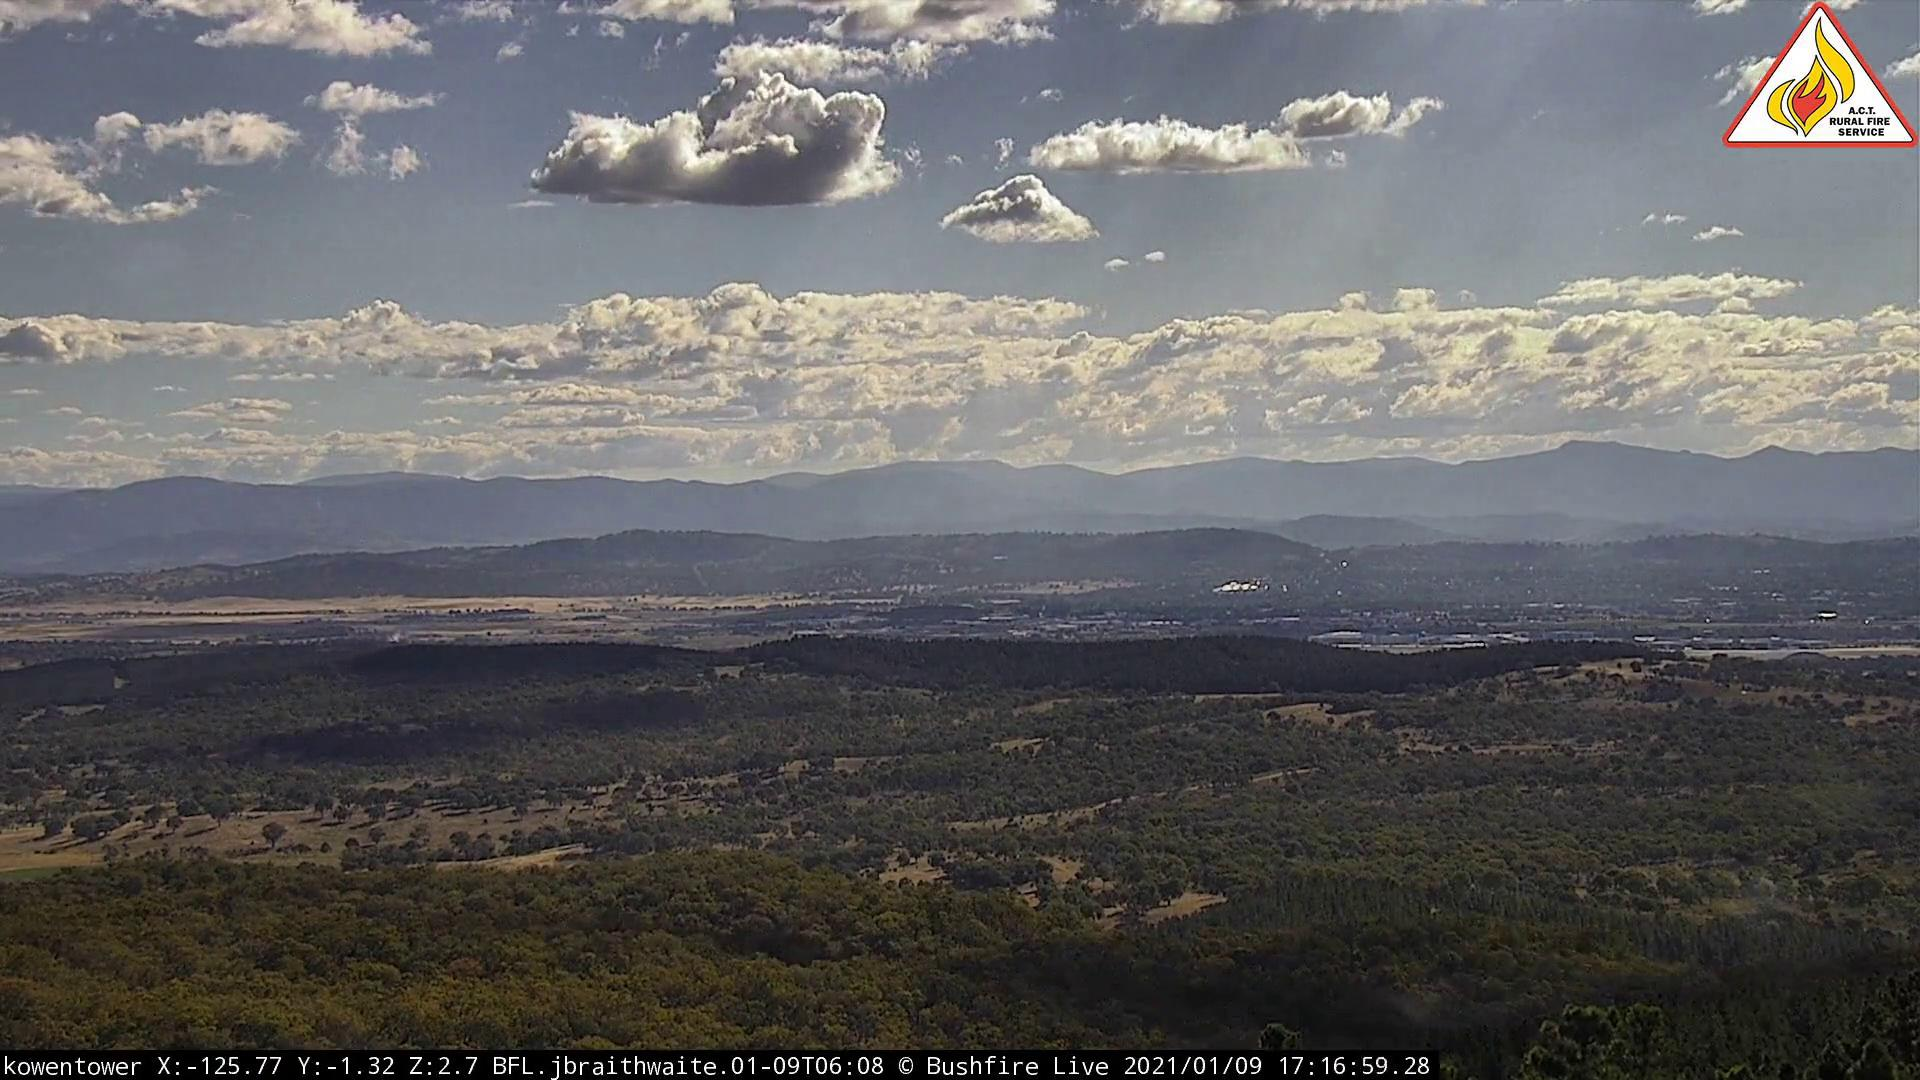Smoke: (378, 618, 423, 658)
